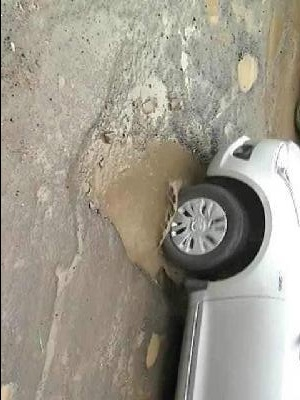pothole: (68, 92, 223, 290), (236, 49, 261, 95), (142, 330, 163, 372), (200, 0, 228, 28)
